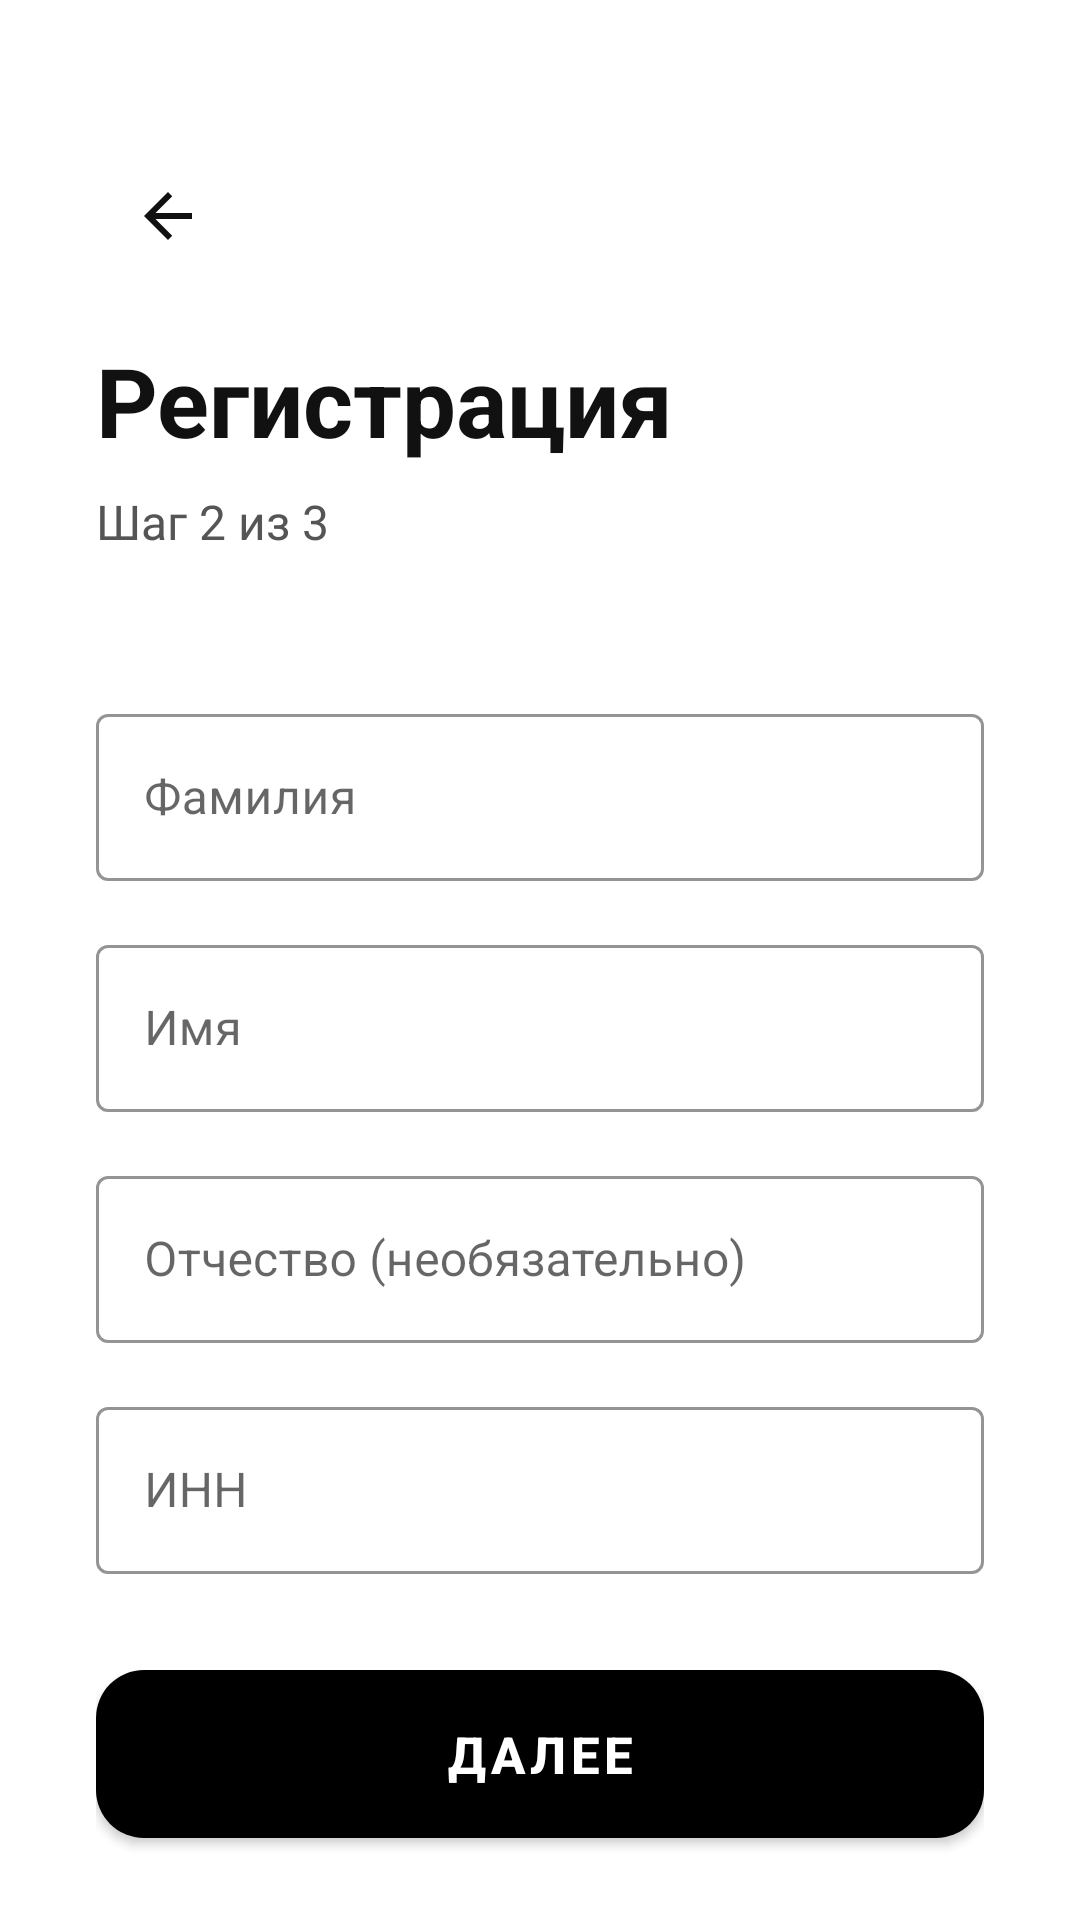

Screen size 1080 x 1920. Icon name, then its box in pixels as region(x1, y1, x2, y2):
arrow back: region(144, 192, 192, 240)
